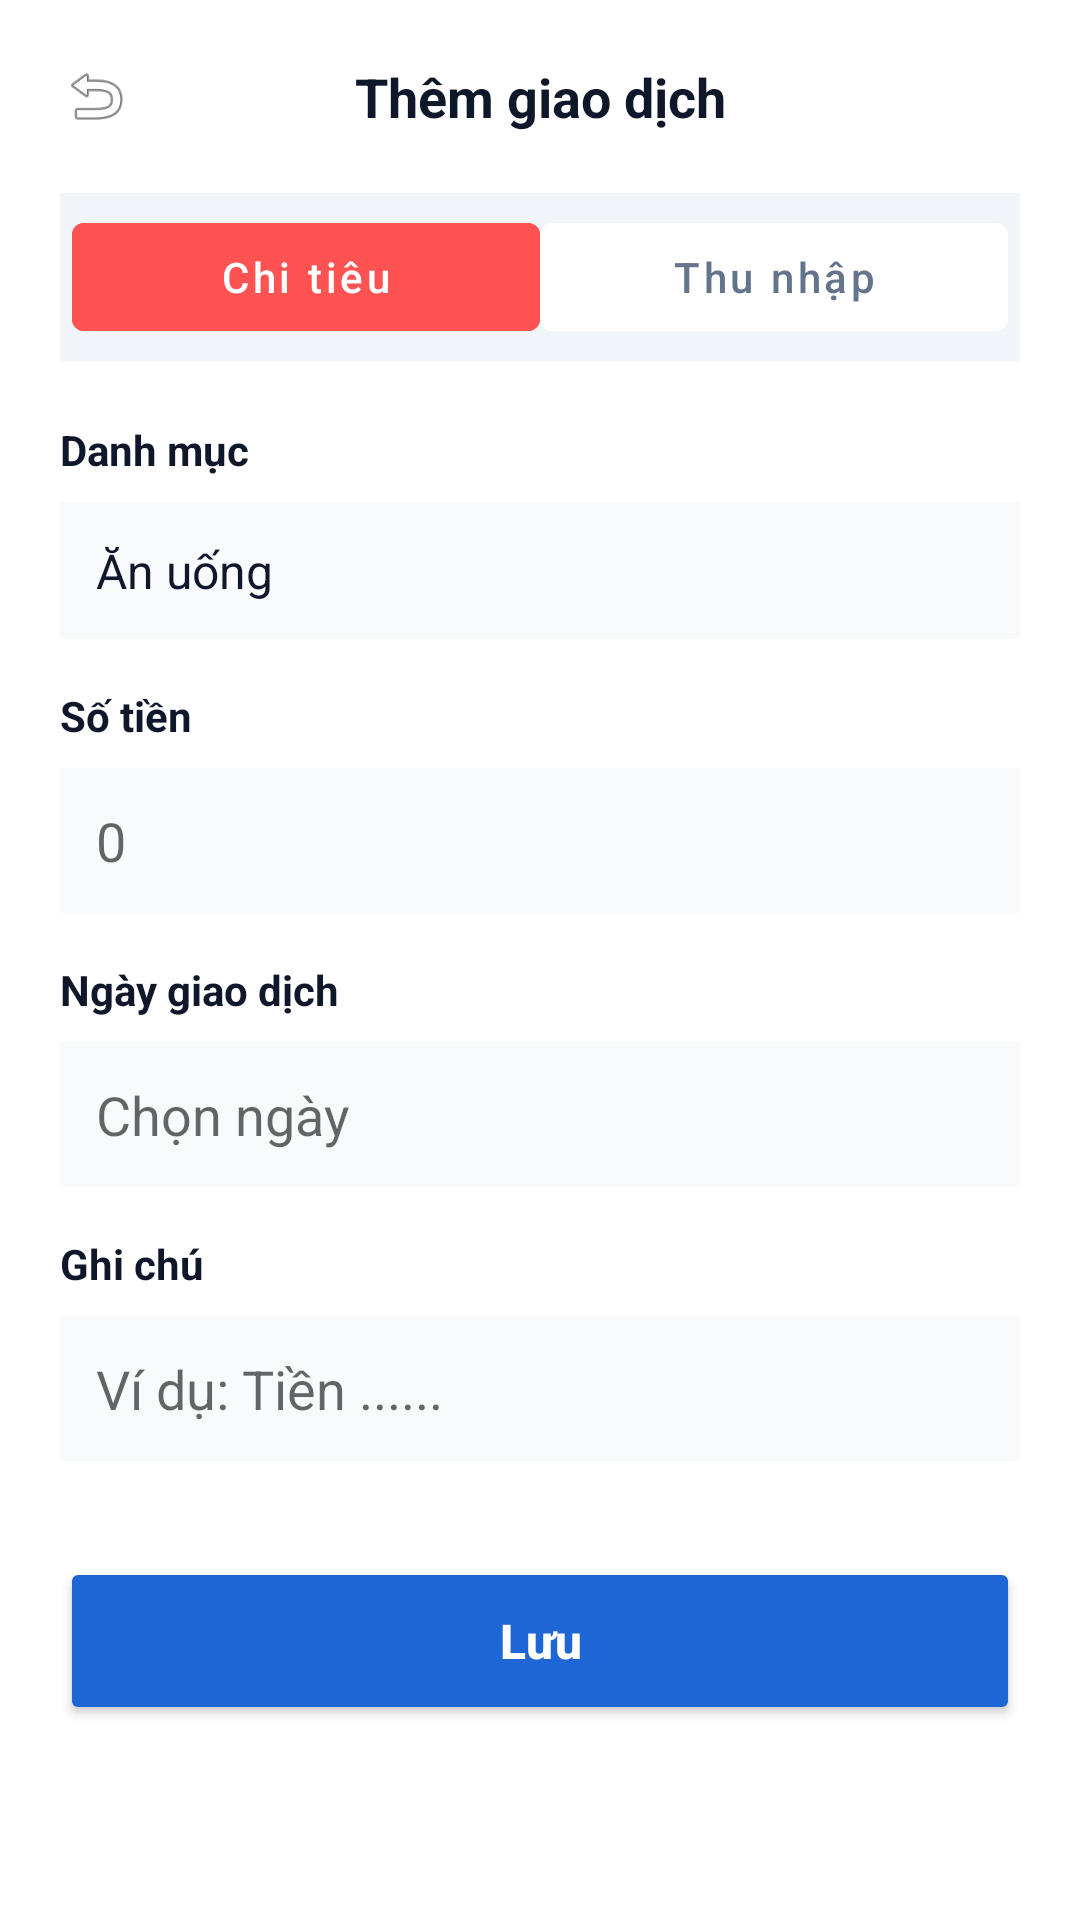

Icon bounding boxes for this 1080x1920 phone screenshot, format BBox(x1, y1, x2, y2):
Back: BBox(71, 73, 123, 120)
